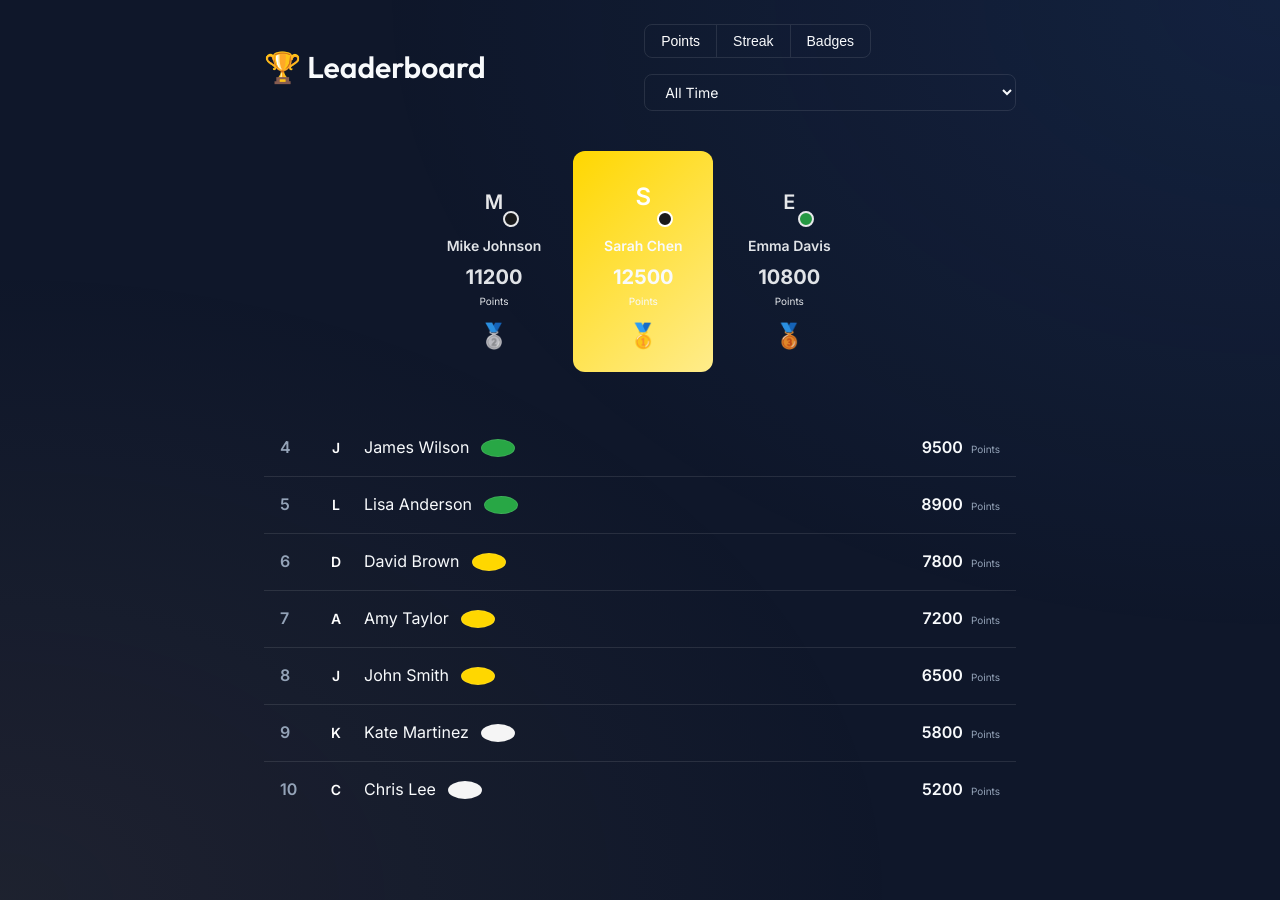
Test: Leaderboard › shows streak count when streak metric selected
The image size is (1280, 900).
Click the button "Streak" at [754, 41], box [717,25,790,57]
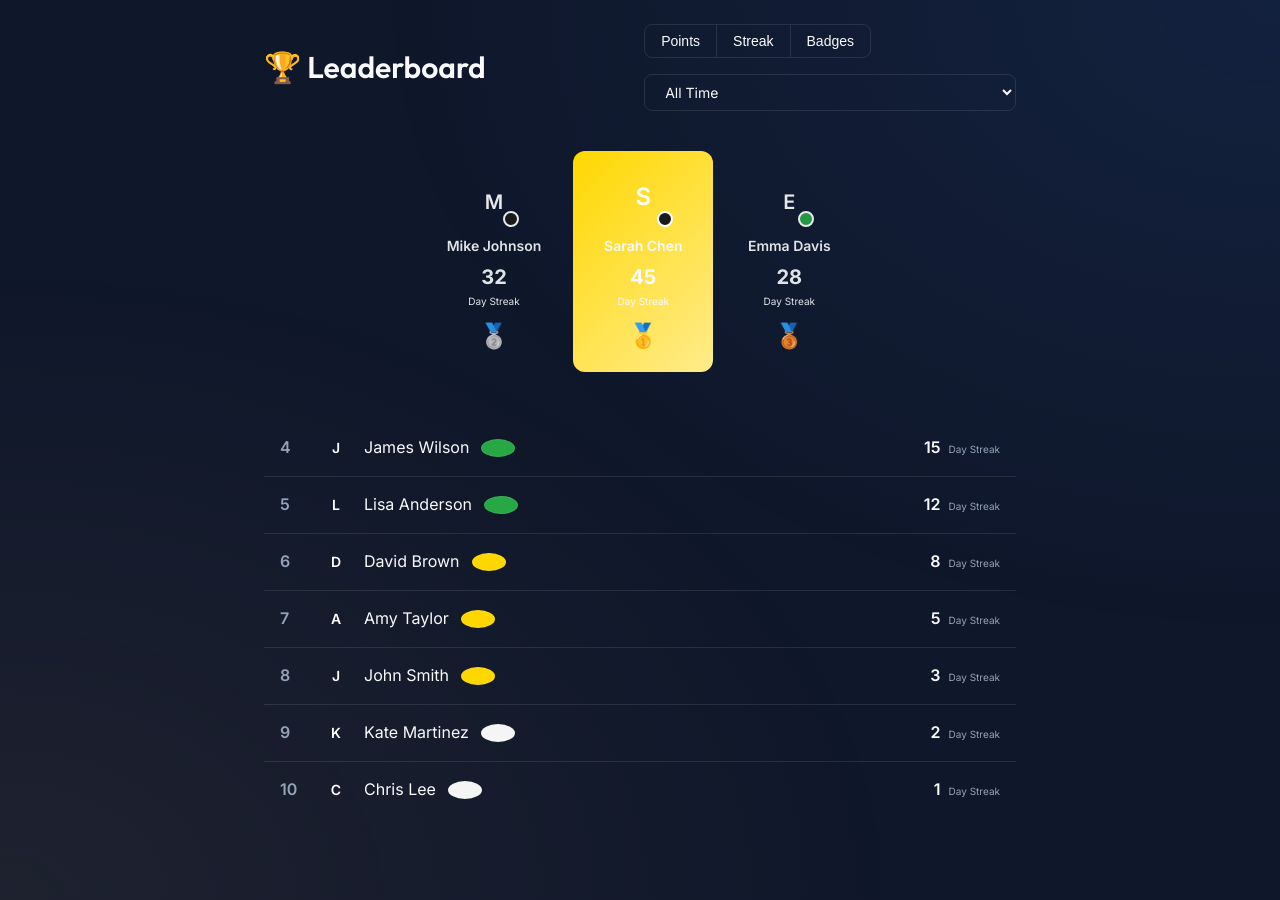
expect the text "Day Streak" below "45" is shown: met, box [618,295,669,307]
